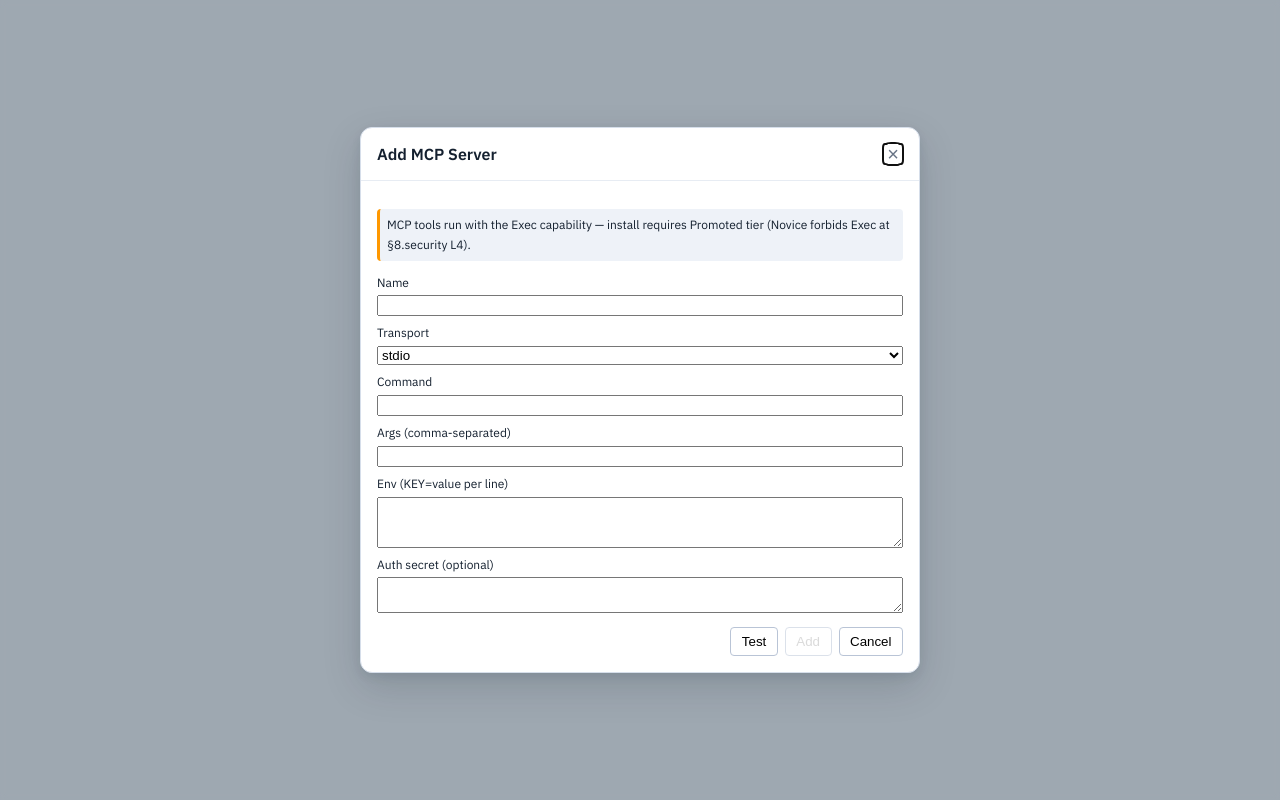
Test: MCPServerAddModal (M06.E) › clicking_test_calls_mcpTestConnection_and_displays_tool_list
The image size is (1280, 800).
In the field with test id "mcp-add-name": (640, 306) [377,295,903,316], type "filesystem"
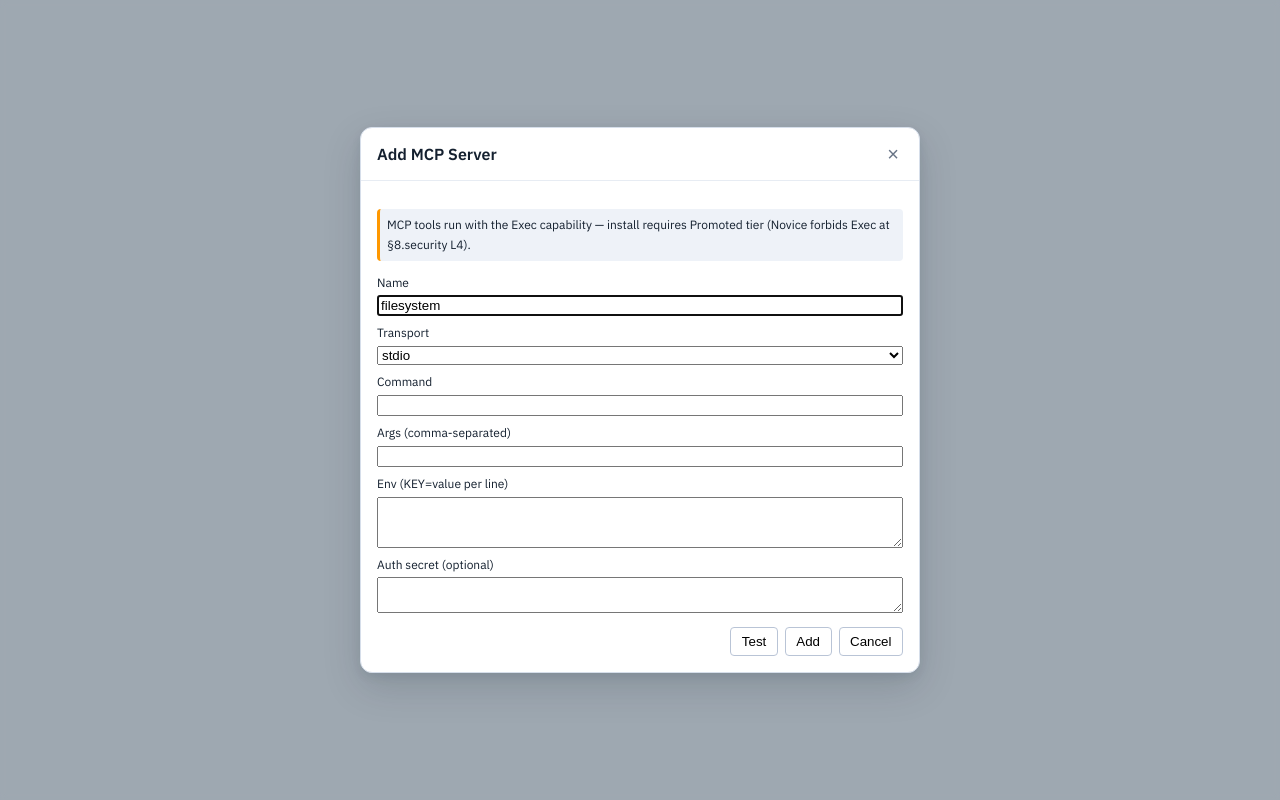
In the field with test id "mcp-add-command": (640, 406) [377,395,903,416], type "npx"
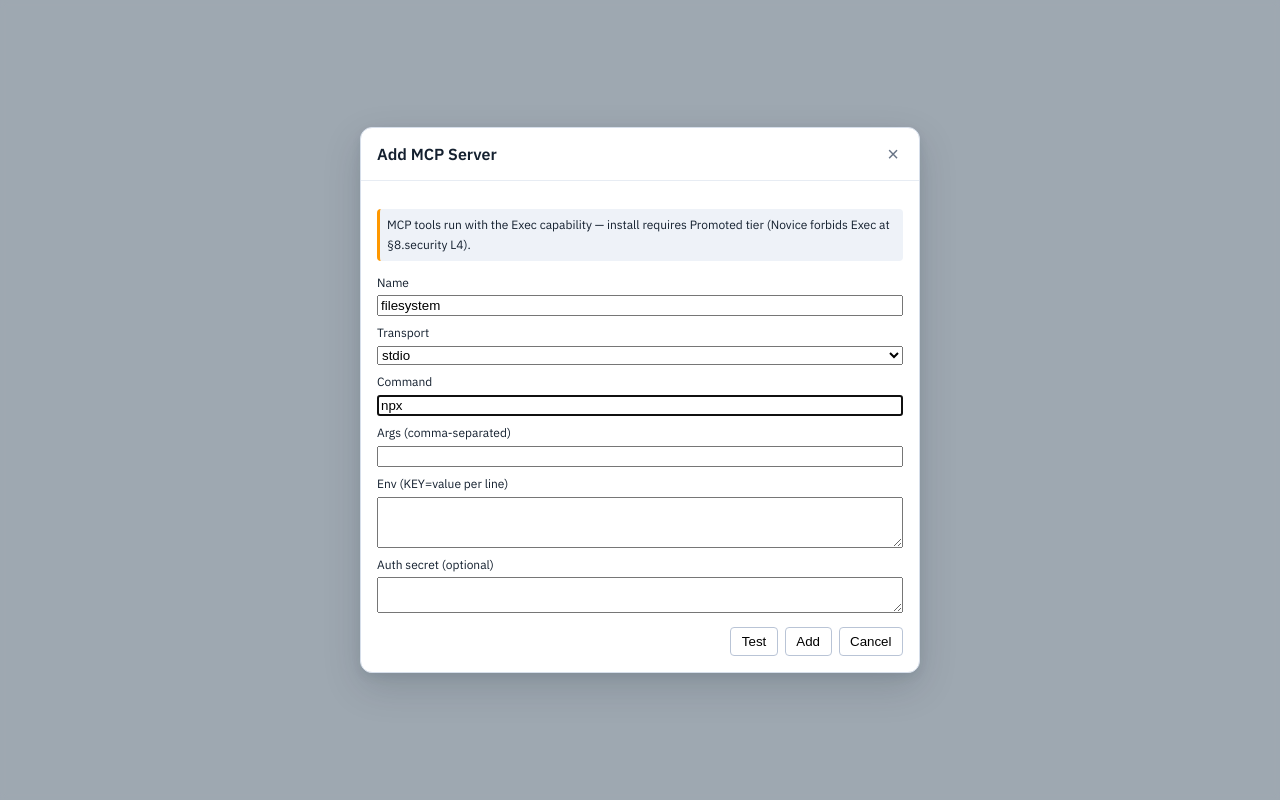
Click the button with test id "mcp-add-test": (754, 642) [730,627,778,656]
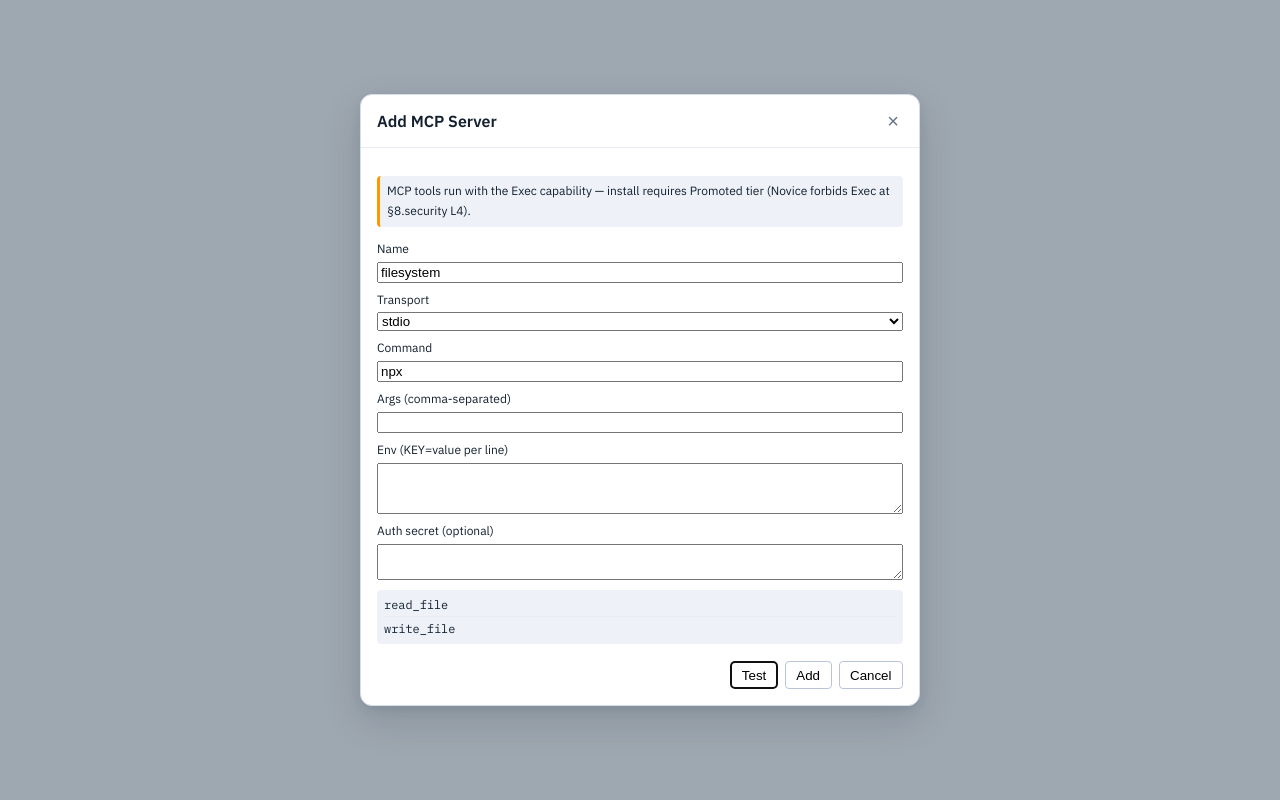
Check: the list with test id "mcp-add-tool-list" shows "read_file", box [384,597,448,612]
Check: the list with test id "mcp-add-tool-list" shows "write_file", box [384,621,455,636]
